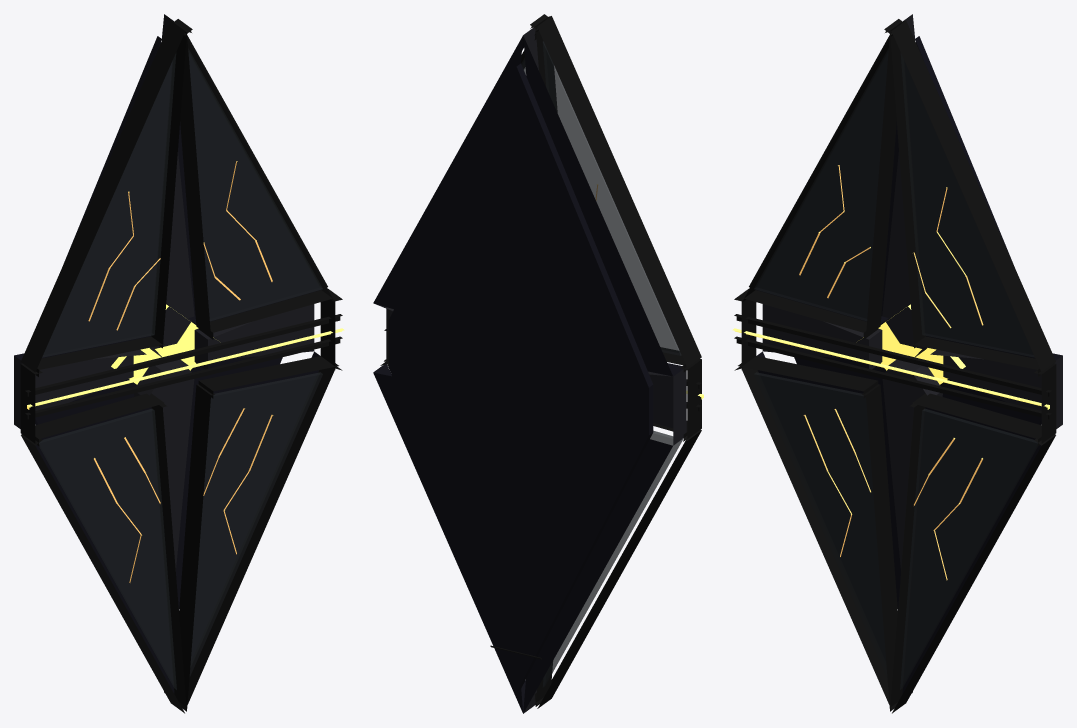
Rendered from ethereum-obsidian-vault.procedural.glb.
3 views of the same model, side by side, from view 1: azimuth 30°, elevation 25°; view 2: azimuth 150°, elevation 25°; view 3: azimuth 330°, elevation 25° (orthographic).
Parts seen in each view (by area): view 1: bottom_left_smoked_glass_shell, bottom_left_obsidian_facet, top_right_smoked_glass_shell, bottom_right_smoked_glass_shell, top_left_smoked_glass_shell, top_right_obsidian_facet, top_left_obsidian_facet, bottom_right_obsidian_facet, top_left_outer_black_chrome_bevel, bottom_right_outer_black_chrome_bevel, bottom_center_right_black_chrome_bevel, static_rear_shadow_volume (+19 smaller); view 2: static_rear_shadow_volume, top_left_outer_black_chrome_bevel, top_left_obsidian_facet, bottom_left_obsidian_facet, top_left_smoked_glass_shell, top_right_obsidian_facet, bottom_right_obsidian_facet, bottom_left_outer_black_chrome_bevel, left_equator_dlc_panel, bottom_left_smoked_glass_shell, left_side_vertical_black_chrome_bevel, top_center_left_black_chrome_bevel; view 3: bottom_right_smoked_glass_shell, bottom_right_obsidian_facet, top_left_smoked_glass_shell, bottom_left_smoked_glass_shell, top_right_smoked_glass_shell, top_left_obsidian_facet, top_right_obsidian_facet, bottom_left_obsidian_facet, top_right_outer_black_chrome_bevel, bottom_left_outer_black_chrome_bevel, bottom_center_left_black_chrome_bevel, static_rear_shadow_volume (+19 smaller).
Boxes of the visible parts, x1,y1,x2,y2 form: bottom_left_smoked_glass_shell: (39,408,176,689); bottom_left_obsidian_facet: (35,407,174,693); top_right_smoked_glass_shell: (188,48,322,321); bottom_right_smoked_glass_shell: (189,372,322,676); top_left_smoked_glass_shell: (42,52,176,357); top_right_obsidian_facet: (188,55,320,323); top_left_obsidian_facet: (14,63,171,360); bottom_right_obsidian_facet: (191,351,319,660); top_left_outer_black_chrome_bevel: (21,20,191,372); bottom_right_outer_black_chrome_bevel: (179,366,342,709); bottom_center_right_black_chrome_bevel: (179,384,214,709); static_rear_shadow_volume: (35,36,282,609); static_rear_shadow_volume: (388,63,653,691); top_left_outer_black_chrome_bevel: (530,16,701,367); top_left_obsidian_facet: (523,36,682,376); bottom_left_obsidian_facet: (523,439,672,712); top_left_smoked_glass_shell: (542,41,681,355); top_right_obsidian_facet: (373,35,523,309); bottom_right_obsidian_facet: (373,364,525,713); bottom_left_outer_black_chrome_bevel: (537,429,701,708); left_equator_dlc_panel: (648,369,686,445); bottom_left_smoked_glass_shell: (542,430,682,687); left_side_vertical_black_chrome_bevel: (680,359,701,438); top_center_left_black_chrome_bevel: (531,26,557,111); bottom_right_smoked_glass_shell: (900,408,1037,689); bottom_right_obsidian_facet: (902,407,1041,693); top_left_smoked_glass_shell: (754,48,888,321); bottom_left_smoked_glass_shell: (754,372,887,676); top_right_smoked_glass_shell: (900,52,1034,357); top_left_obsidian_facet: (756,55,888,323); top_right_obsidian_facet: (905,63,1062,360); bottom_left_obsidian_facet: (757,351,885,660); top_right_outer_black_chrome_bevel: (885,20,1055,372); bottom_left_outer_black_chrome_bevel: (734,366,897,709); bottom_center_left_black_chrome_bevel: (862,384,897,709); static_rear_shadow_volume: (794,36,1041,609).
Size of the model in its own units: 2.48 by 5.13 by 0.445.
